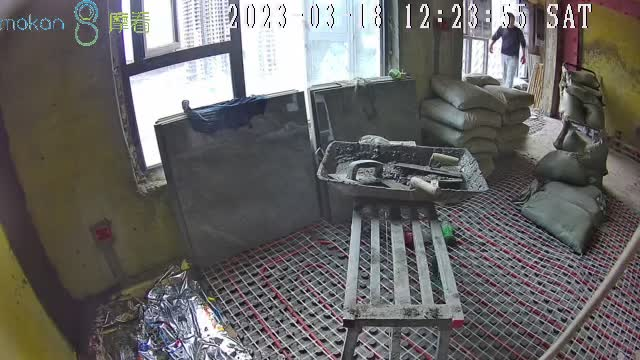people: (489, 12, 527, 86)
window: (130, 1, 387, 176), (462, 1, 529, 79)
